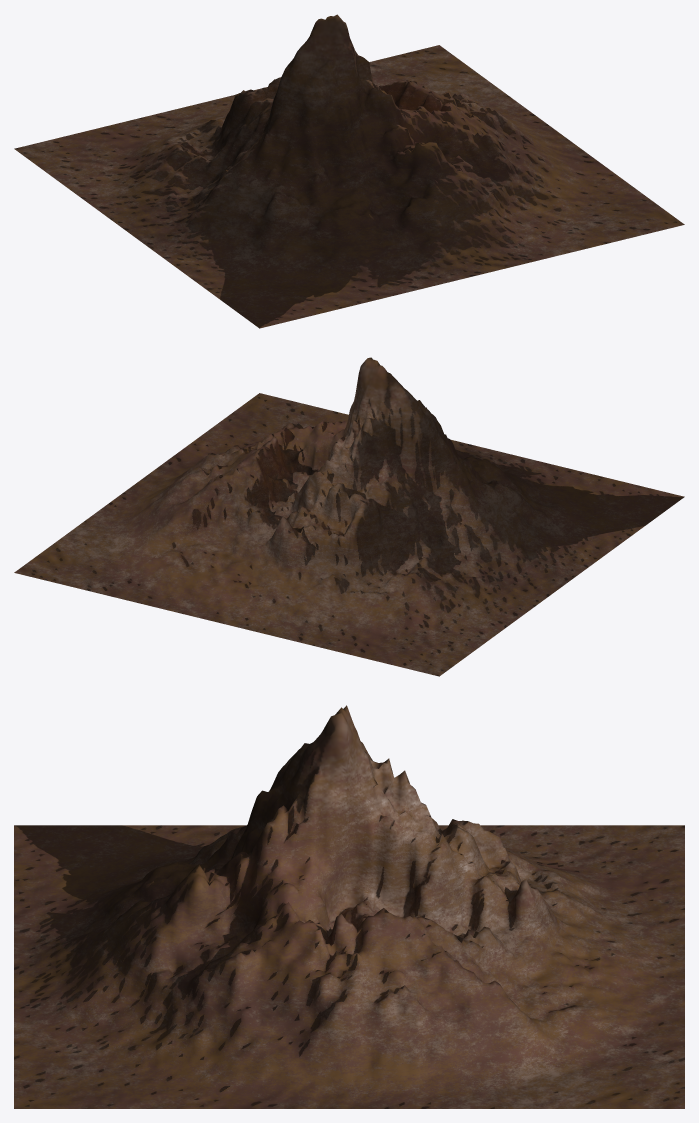
The model's file is Mountain.obj.
The picture shows the model from 3 angles, top to bottom: view 1: azimuth 30°, elevation 25°; view 2: azimuth 150°, elevation 25°; view 3: azimuth 270°, elevation 25°; orthographic projection. The views are drawn at different scales.
Visible parts, largest first — view 1: Landscape; view 2: Landscape; view 3: Landscape.
Part boxes in pixels (x1,y1,x2,y2): Landscape: [14, 14, 684, 328]; Landscape: [14, 357, 684, 676]; Landscape: [14, 705, 684, 1108].
Bounding box in the file's own units: 16 × 6.41 × 16.
